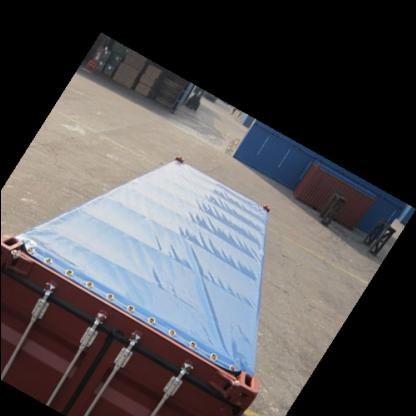Damage: (210, 374, 250, 404), (5, 251, 45, 280), (108, 316, 132, 340)
